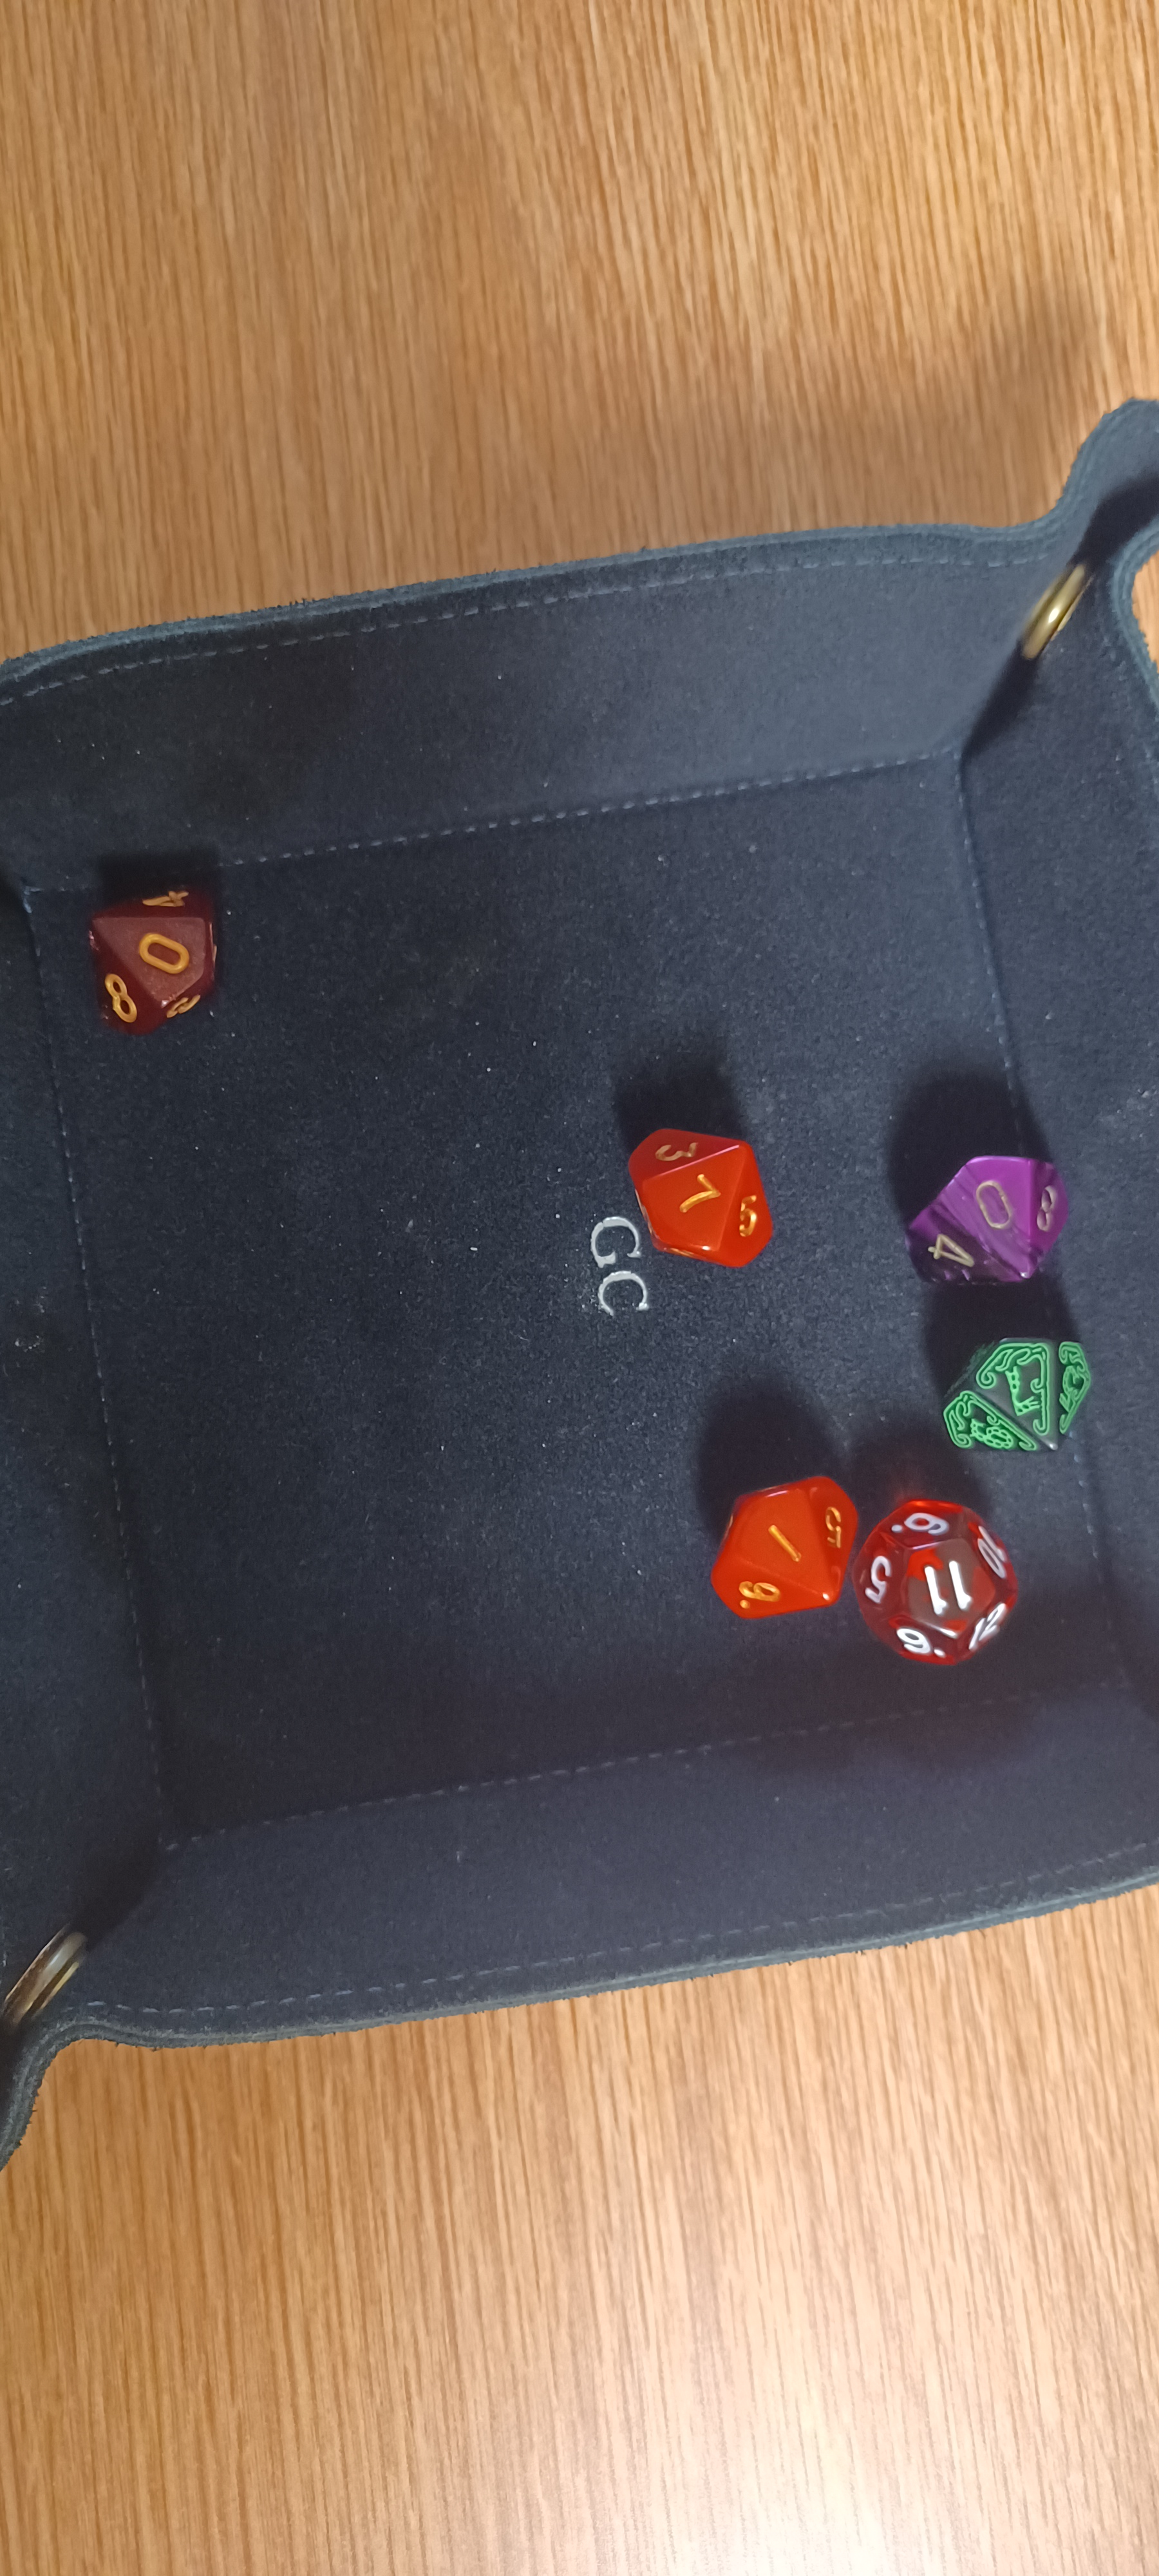eleven: (836, 1470, 1046, 1707)
one: (681, 1449, 872, 1630)
seven: (589, 1083, 808, 1301), (900, 1299, 1126, 1480)
zero: (868, 1101, 1098, 1308), (62, 848, 253, 1050)
